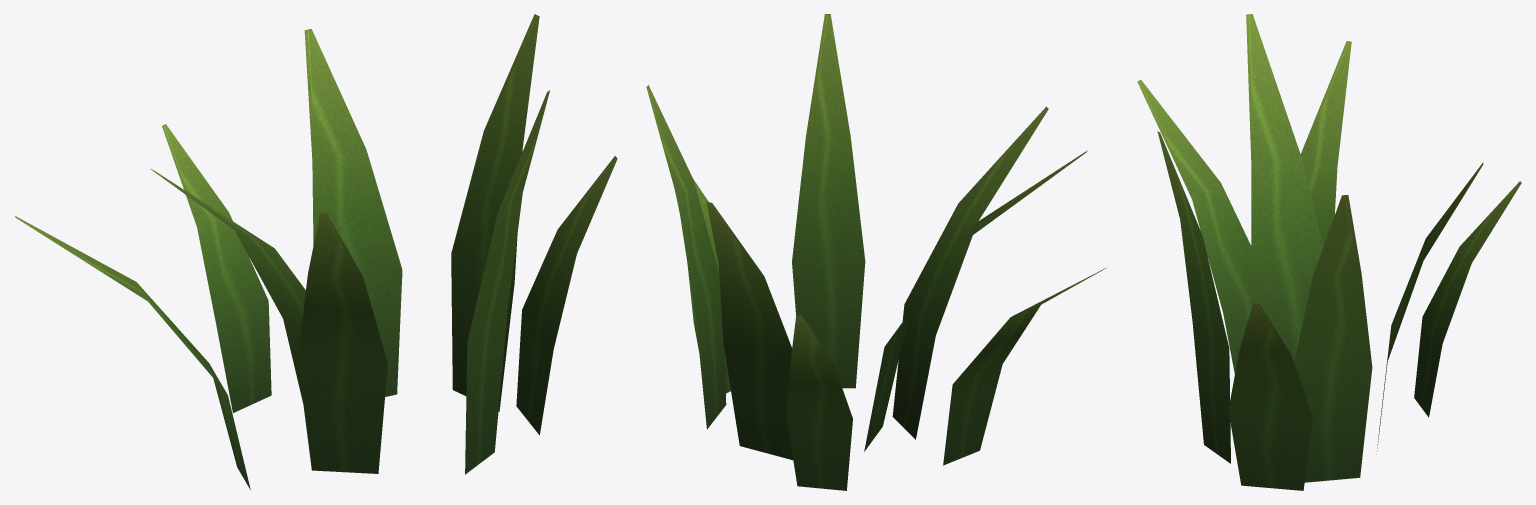
File: tuft_small.glb
3 views of the same model, side by side, from view 1: azimuth 30°, elevation 25°; view 2: azimuth 150°, elevation 25°; view 3: azimuth 270°, elevation 25° (orthographic). The views are drawn at different scales.
Visible parts, largest first — view 1: model; view 2: model; view 3: model.
Part boxes in pixels (x1,y1,x2,y2): model: (14, 14, 617, 489); model: (646, 14, 1106, 490); model: (1137, 14, 1521, 490).
Size of the model in its own units: 0.29 by 0.1962 by 0.2026.
1 material, 1 textured.
